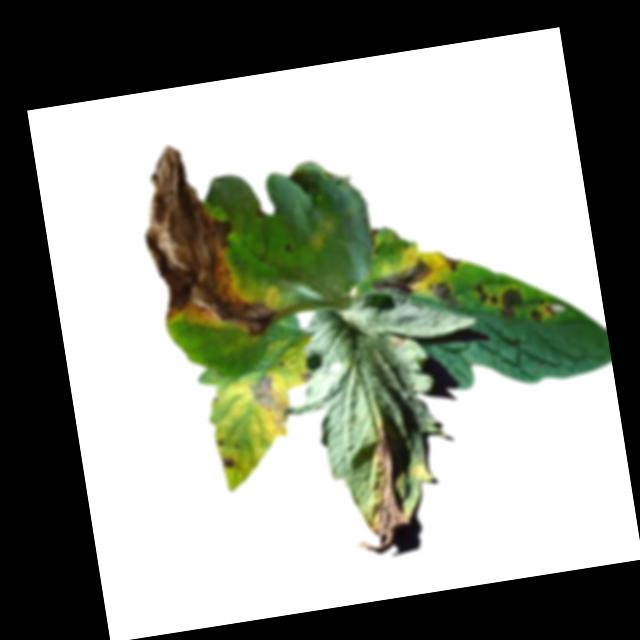Early_blight: (130, 132, 278, 350), (339, 419, 415, 556), (368, 253, 435, 304), (245, 369, 291, 426), (430, 276, 461, 311), (497, 284, 527, 319), (527, 294, 556, 324), (440, 246, 466, 276), (473, 279, 498, 307), (220, 451, 238, 470)
